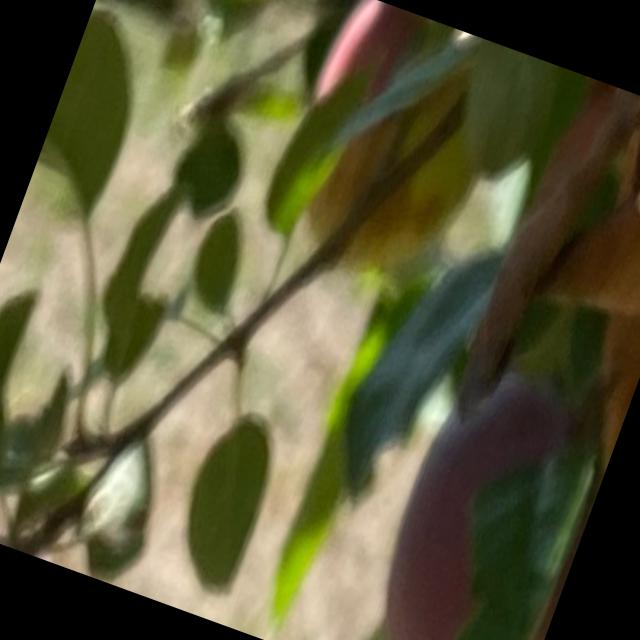Apples: (352, 347, 629, 639), (261, 0, 525, 297)
